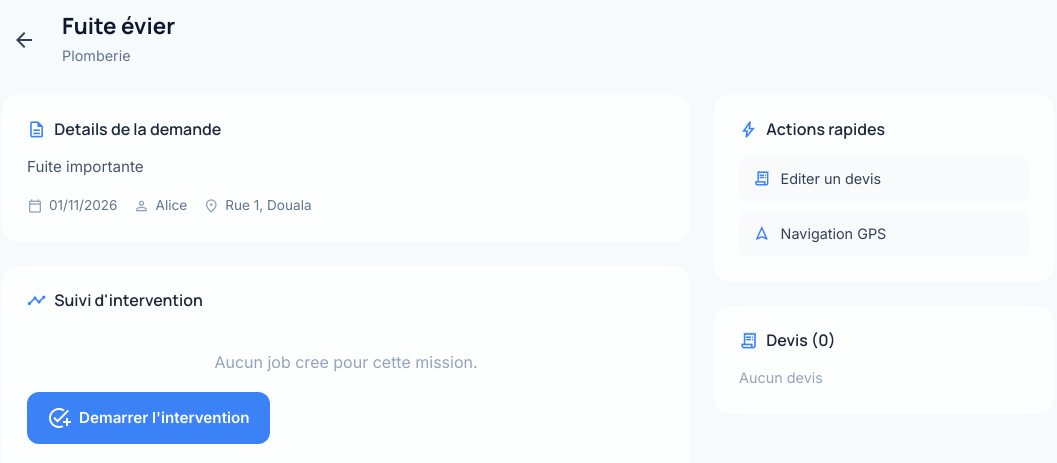
Test: MissionDetail › crée le job à la demande lorsqu'il n'existe pas
This screenshot has width=1057, height=463.
Expected: the text "Aucun job cree pour cette mission." is shown, [214,352,478,372]
Click the button with class "md-btn-primary".
click(148, 418)  # box [27,392,270,444]
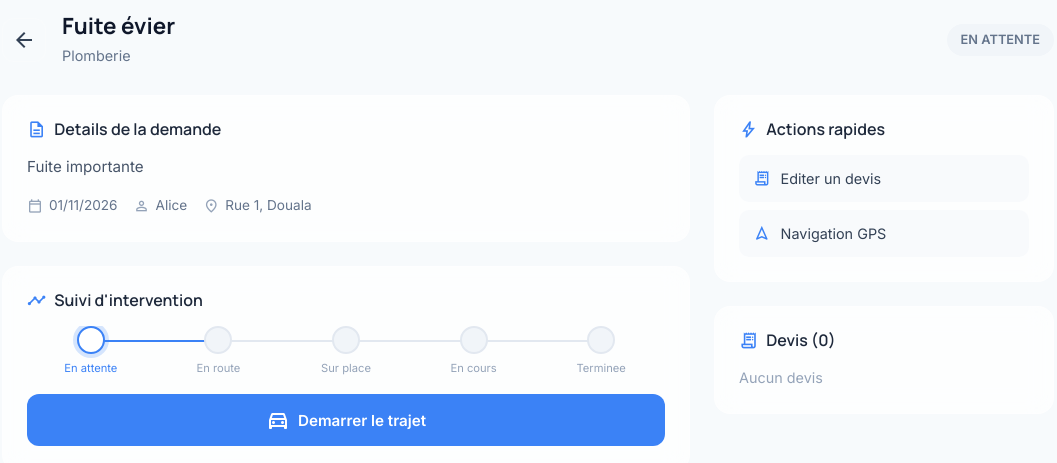
Now the text with class "md-status-pill" reads "En attente", box [961,32,1040,47]
